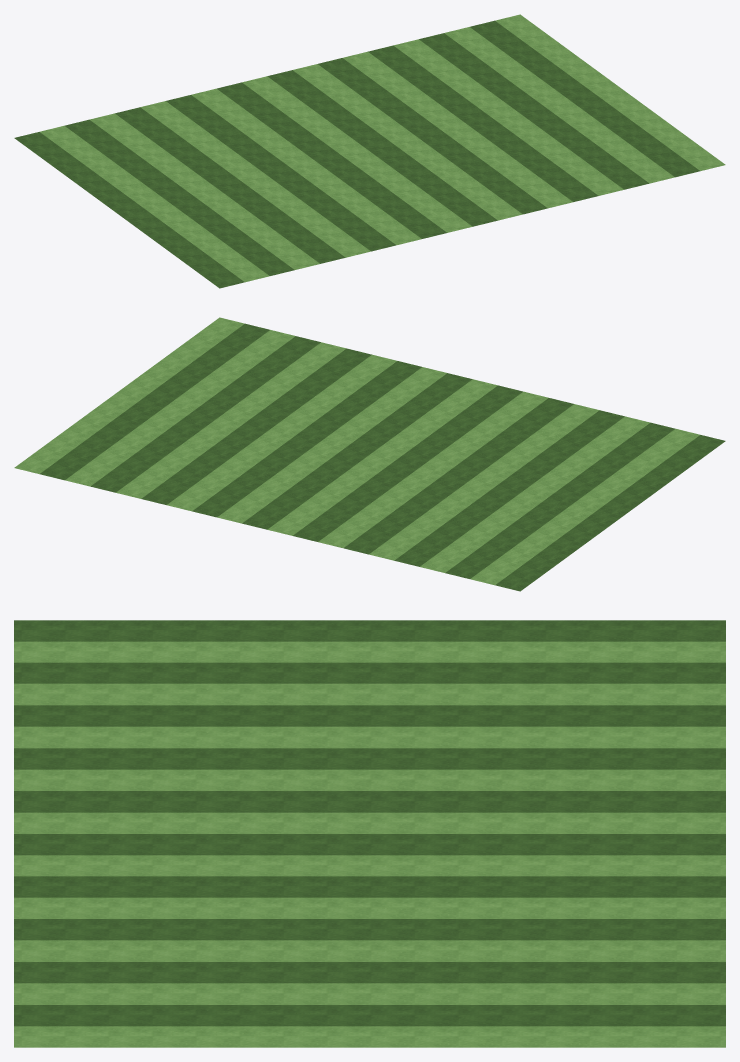
File: grass2.fbx
3 views of the same model, one above another, from view 1: azimuth 30°, elevation 25°; view 2: azimuth 150°, elevation 25°; view 3: azimuth 270°, elevation 25° (orthographic). The views are drawn at different scales.
Visible parts, largest first — view 1: grass2; view 2: grass2; view 3: grass2.
Part boxes in pixels (x1,y1,x2,y2): grass2: (14, 14, 725, 288); grass2: (14, 317, 725, 591); grass2: (14, 620, 725, 1047).
Bounding box in the file's own units: 118 × 0 × 82.73.
